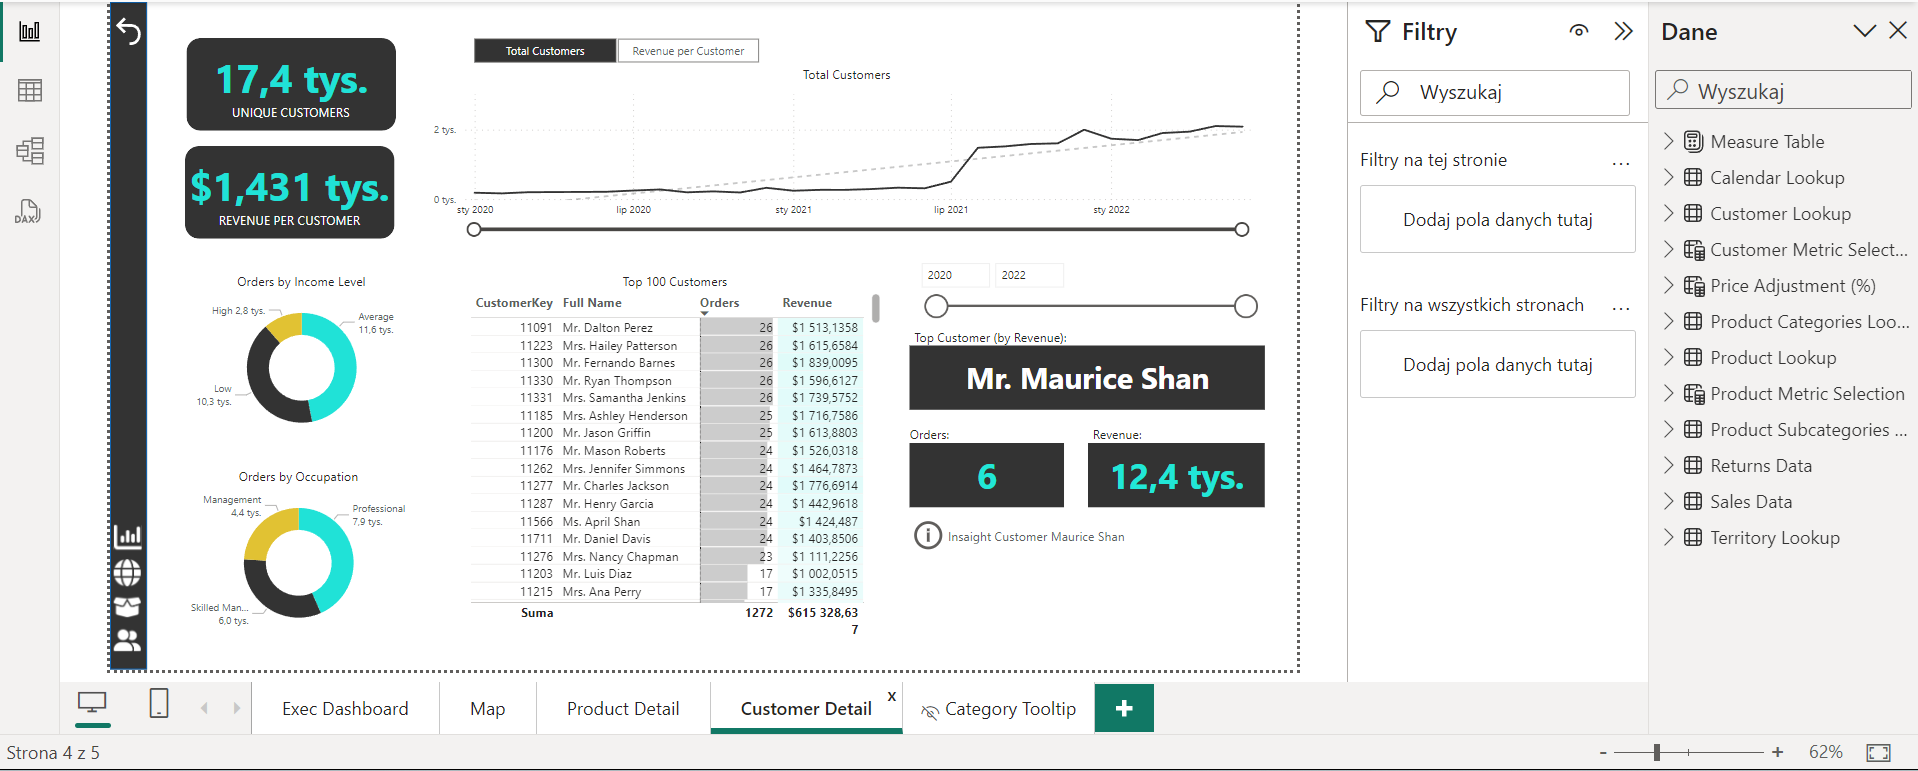

Layout of this report page (visuals, bound fields, positions):
{"tool":"powerbi","page":{"name":"Customer Detail","canvas":[1280,720],"ordinal":3},"visuals":[{"type":"shape","title":"Left Nav Background","box":[0,0,40,720],"z":0},{"type":"shape","box":[80.7,156,226,100],"z":1000},{"type":"shape","box":[82.7,38.7,226,100],"z":2000},{"type":"card","fields":{"Values":["Measure Table.Total Customers"]},"box":[60.7,20.7,270,136],"z":3000},{"type":"card","fields":{"Values":["Measure Table.Average Revenue per Customer"]},"box":[58.7,138,270,136],"z":4000},{"type":"lineChart","fields":{"Y":["Measure Table.Total Customers"],"Category":["Calendar Lookup.Date Hierarchia.Start of Year","Calendar Lookup.Date Hierarchia.Start of Month","Calendar Lookup.Date Hierarchia.Start of Week","Calendar Lookup.Date Hierarchia.Date"]},"box":[343.3,68.3,903.3,188.3],"z":5000},{"type":"donutChart","title":"Orders by Income Level","fields":{"Category":["Customer Lookup.Income Level"],"Y":["Measure Table.Total Orders"]},"box":[82,292,248,188],"z":6000},{"type":"donutChart","title":"Orders by Occupation","fields":{"Y":["Measure Table.Total Orders"],"Category":["Customer Lookup.Occupation"]},"box":[80,502,248,188],"z":7000},{"type":"tableEx","title":"Top 100 Customers","fields":{"Values":["Customer Lookup.CustomerKey","Customer Lookup.Full Name","Measure Table.Total Orders","Measure Table.Total Revenue"]},"box":[384,292,452,398],"z":8000},{"type":"card","fields":{"Values":["Measure Table.Full Name (Customer Detail)"]},"box":[862.4,371.1,383.5,69.6],"z":9000},{"type":"card","fields":{"Values":["Measure Table.Total Revenue (Customer Detail)"]},"box":[1054.9,476.2,190.9,69.6],"z":10000},{"type":"card","fields":{"Values":["Measure Table.Total Orders (Customer Detail)"]},"box":[862.4,476.2,166.7,69.6],"z":11000},{"type":"textbox","box":[862.4,346.8,178,48.5],"z":12000},{"type":"textbox","box":[857.5,452,178,48.5],"z":13000},{"type":"textbox","box":[1054.9,452,178,48.5],"z":14000},{"type":"slicer","fields":{"Values":["Calendar Lookup.Year"]},"box":[862.4,271.8,383.5,74.4],"z":15000},{"type":"actionButton","box":[862.4,555,236.2,40.4],"z":16000},{"type":"actionButton","box":[0,11.7,40.1,40.1],"z":17000},{"type":"actionButton","box":[0,558.3,41.7,38.3],"z":18000},{"type":"actionButton","box":[0.6,633.4,40.4,37.2],"z":19000},{"type":"actionButton","box":[0.6,669.8,40.4,37.2],"z":20000},{"type":"actionButton","box":[0.6,597,40.4,37.2],"z":21000},{"type":"slicer","fields":{"Values":["Customer Metric Selection.Customer Metric Selection"]},"box":[366.7,31.7,356.7,36.7],"z":21501}]}

Visuals, with their boxes on the page's 1280x720 design canvas (x1, y1, x2, y2). These are canvas units, not pixel positions in the 1918x771 screenshot, which may show the page scaled, cropped or inside an application window:
"Left Nav Background" shape: crop(0, 0, 40, 720)
shape: crop(81, 156, 307, 256)
shape: crop(83, 39, 309, 139)
card - Measure Table.Total Customers: crop(61, 21, 331, 157)
card - Measure Table.Average Revenue per Customer: crop(59, 138, 329, 274)
lineChart - Measure Table.Total Customers x Calendar Lookup.Date Hierarchia.Start of Year: crop(343, 68, 1247, 257)
"Orders by Income Level" donutChart: crop(82, 292, 330, 480)
"Orders by Occupation" donutChart: crop(80, 502, 328, 690)
"Top 100 Customers" tableEx: crop(384, 292, 836, 690)
card - Measure Table.Full Name (Customer Detail): crop(862, 371, 1246, 441)
card - Measure Table.Total Revenue (Customer Detail): crop(1055, 476, 1246, 546)
card - Measure Table.Total Orders (Customer Detail): crop(862, 476, 1029, 546)
textbox: crop(862, 347, 1040, 395)
textbox: crop(858, 452, 1036, 500)
textbox: crop(1055, 452, 1233, 500)
slicer - Calendar Lookup.Year: crop(862, 272, 1246, 346)
actionButton: crop(862, 555, 1099, 595)
actionButton: crop(0, 12, 40, 52)
actionButton: crop(0, 558, 42, 597)
actionButton: crop(1, 633, 41, 671)
actionButton: crop(1, 670, 41, 707)
actionButton: crop(1, 597, 41, 634)
slicer - Customer Metric Selection.Customer Metric Selection: crop(367, 32, 723, 68)
